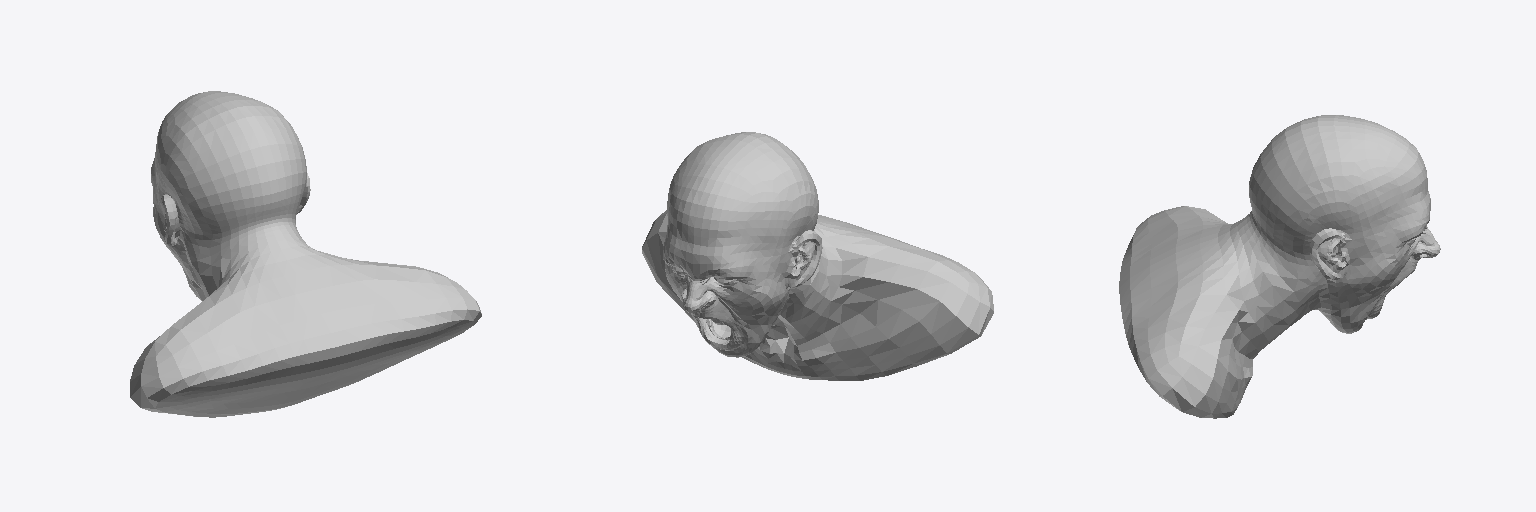
The model's file is Rage_Man3.obj.
3 views of the same model, side by side, from view 1: azimuth 30°, elevation 25°; view 2: azimuth 150°, elevation 25°; view 3: azimuth 270°, elevation 25° (orthographic).
Parts seen in each view (by area): view 1: EvilScreaminManBaseMesh.001; view 2: EvilScreaminManBaseMesh.001; view 3: EvilScreaminManBaseMesh.001.
Boxes of the visible parts, x1,y1,x2,y2 form: EvilScreaminManBaseMesh.001: [130, 91, 481, 417]; EvilScreaminManBaseMesh.001: [642, 132, 993, 380]; EvilScreaminManBaseMesh.001: [1119, 115, 1440, 418].
Size of the model in its own units: 2.95 by 2.26 by 2.44.